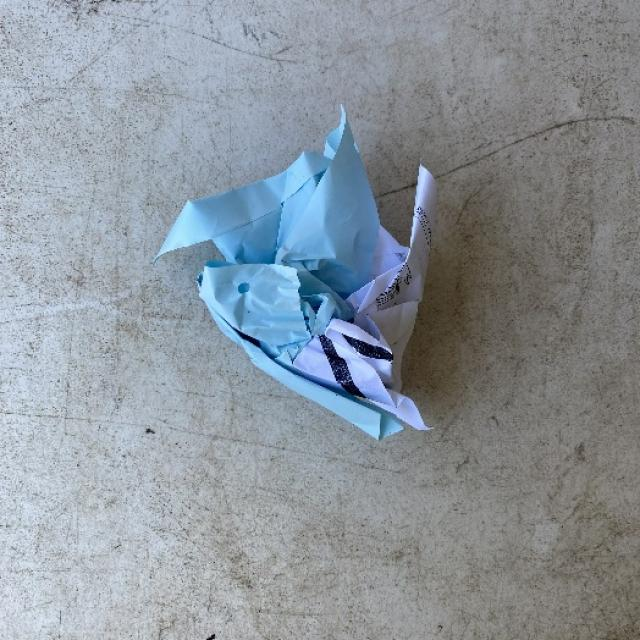inorganic: (149, 113, 479, 479)
